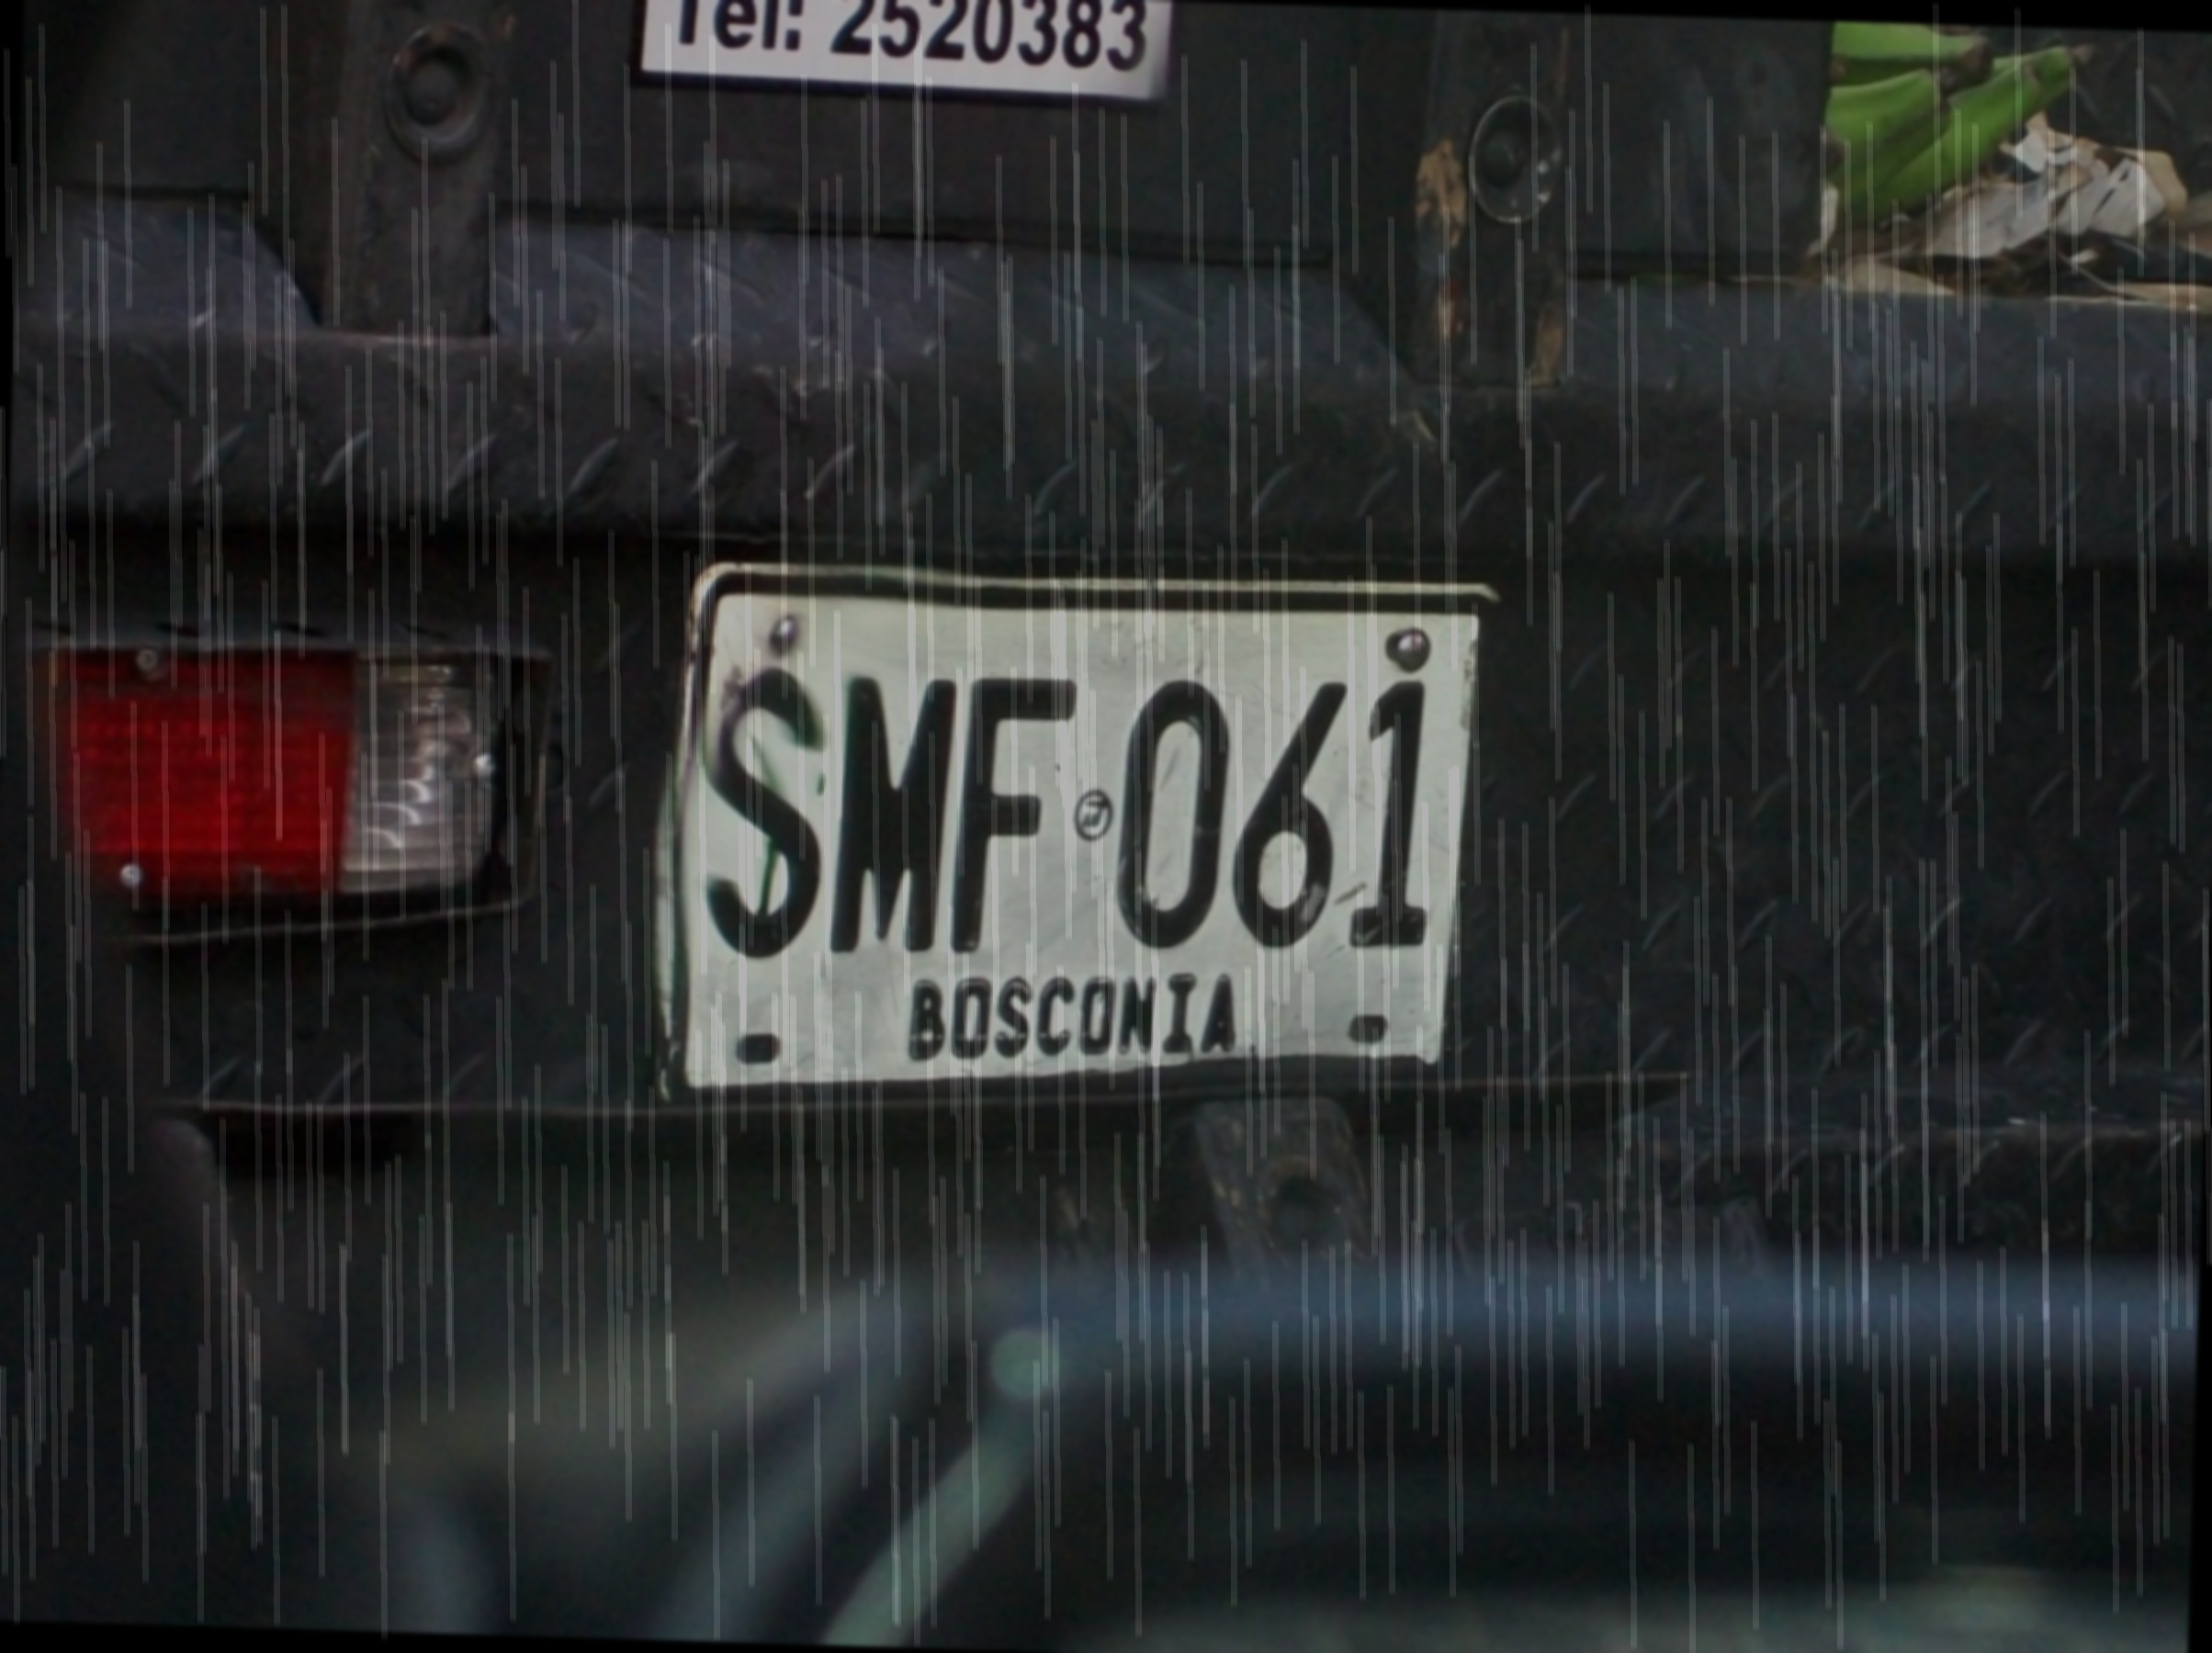placas: (644, 532, 1509, 1136)
